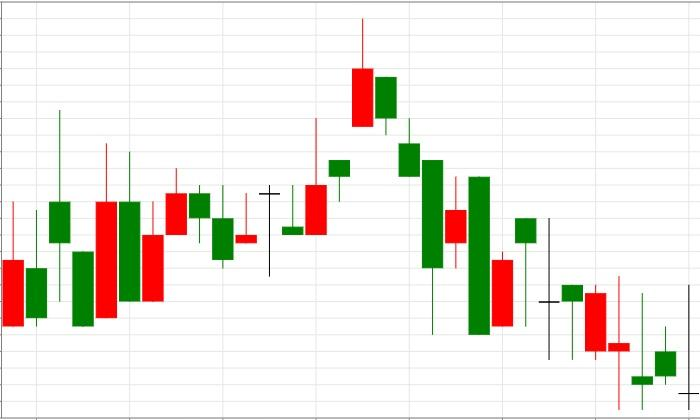bullish_engulfing_rise: (351, 17, 491, 335)
